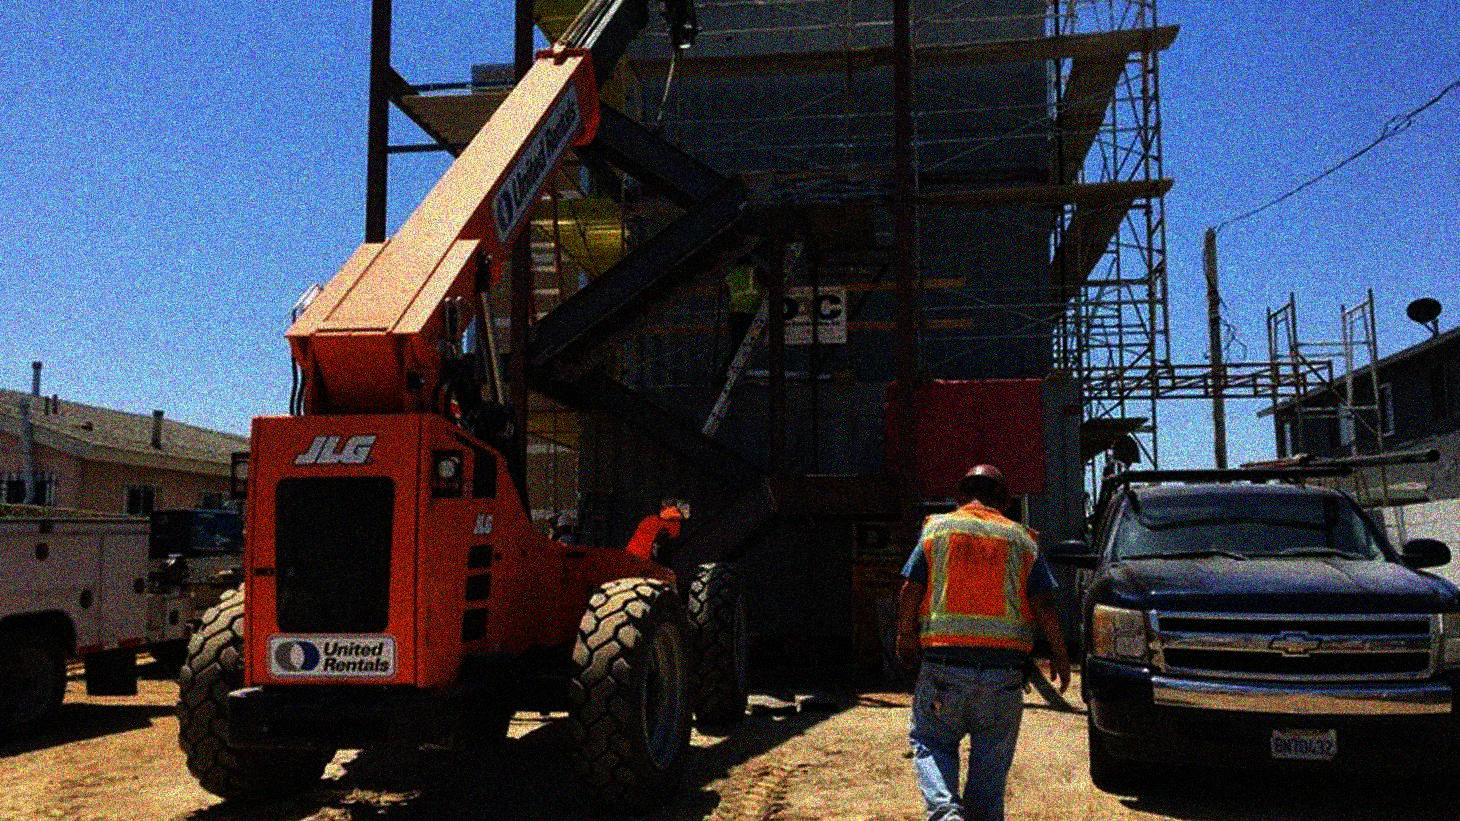helmet: (958, 461, 1012, 517)
